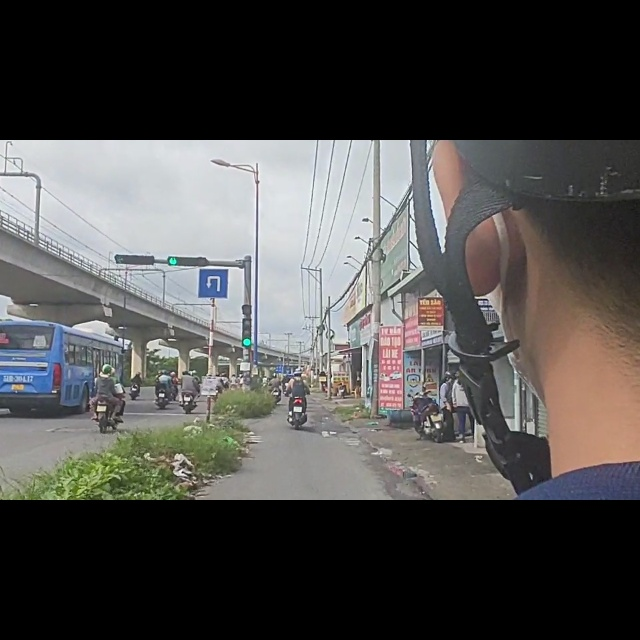bien_chi_dan: (197, 228, 231, 286)
